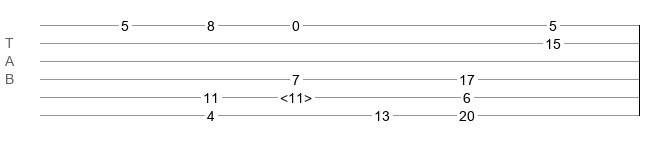0: (292, 18, 300, 28)
11: (203, 90, 219, 100)
13: (374, 108, 390, 118)
15: (545, 36, 561, 46)
17: (459, 72, 475, 82)
20: (459, 108, 475, 118)
4: (207, 108, 215, 118)
5: (121, 18, 129, 28), (549, 18, 557, 28)
6: (463, 90, 471, 100)
7: (292, 72, 300, 82)
8: (207, 18, 215, 28)
harmonic: (280, 90, 312, 100)
